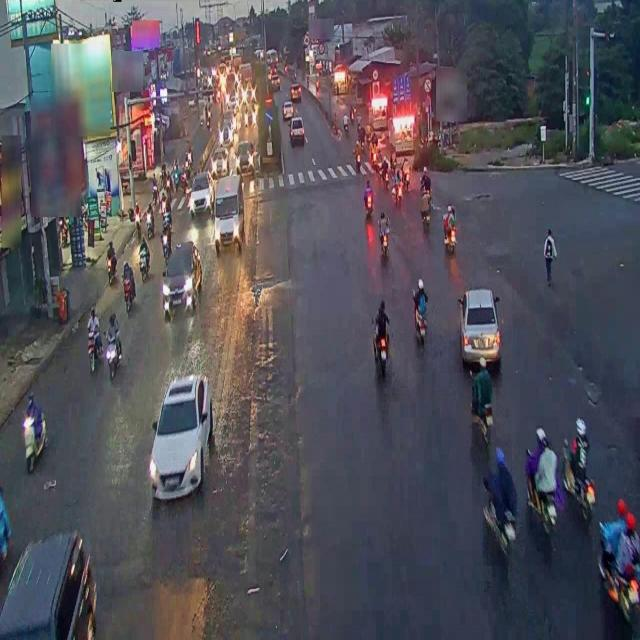car: (148, 373, 214, 503), (457, 286, 505, 366), (161, 238, 203, 312)
motorcycle: (518, 414, 568, 544), (597, 491, 640, 627), (560, 420, 596, 520), (486, 460, 516, 574), (369, 293, 395, 387), (471, 351, 494, 450), (21, 389, 49, 468), (441, 200, 461, 266), (103, 310, 121, 378), (83, 305, 101, 372), (413, 274, 429, 344), (374, 208, 392, 260)
truck: (213, 174, 245, 252)
